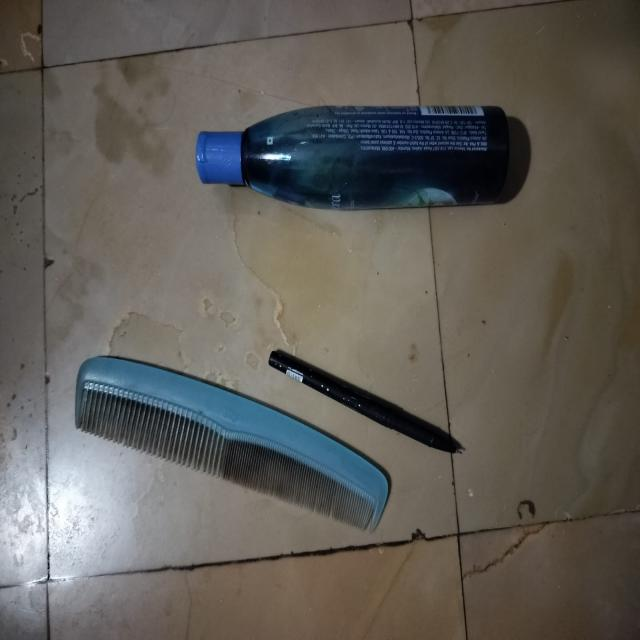plastic: (168, 89, 573, 243), (55, 392, 387, 515), (261, 328, 514, 457)
